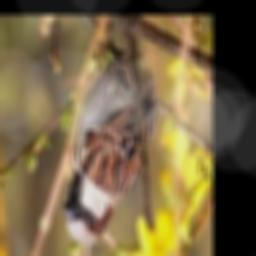Sparrow: (61, 42, 156, 245)
